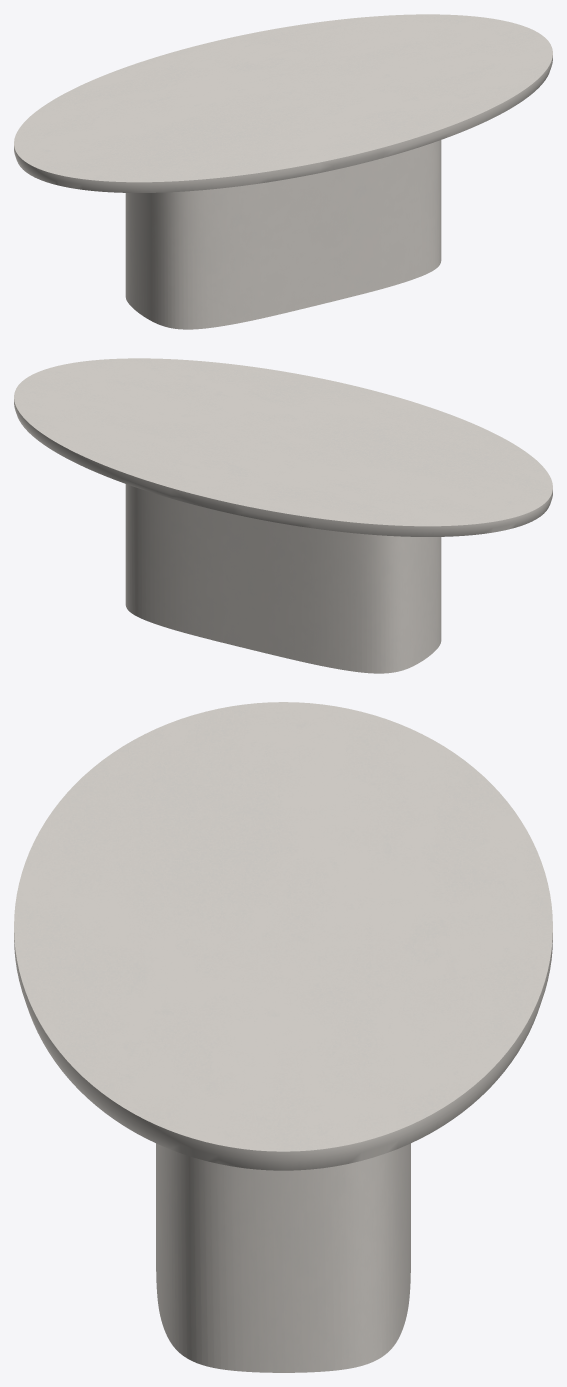
The model's file is pearlwhite_ellips_facet_fixed.glb.
3 renders of one model, top to bottom at view 1: azimuth 30°, elevation 25°; view 2: azimuth 150°, elevation 25°; view 3: azimuth 270°, elevation 25°, orthographic. The views are drawn at different scales.
Visible parts, largest first — view 1: tabletop_ellips_facet.003, tableleg_fixed.001; view 2: tabletop_ellips_facet.003, tableleg_fixed.001; view 3: tabletop_ellips_facet.003, tableleg_fixed.001.
Boxes of the visible parts, left/top/right/bottom form: tabletop_ellips_facet.003: left=14, top=14, right=552, bottom=192; tableleg_fixed.001: left=125, top=140, right=441, bottom=329; tabletop_ellips_facet.003: left=14, top=358, right=552, bottom=536; tableleg_fixed.001: left=125, top=484, right=441, bottom=673; tabletop_ellips_facet.003: left=14, top=702, right=552, bottom=1170; tableleg_fixed.001: left=156, top=1143, right=410, bottom=1372.
Size of the model in its own units: 7.5 by 2.5 by 3.8.
1 material, 1 textured.
